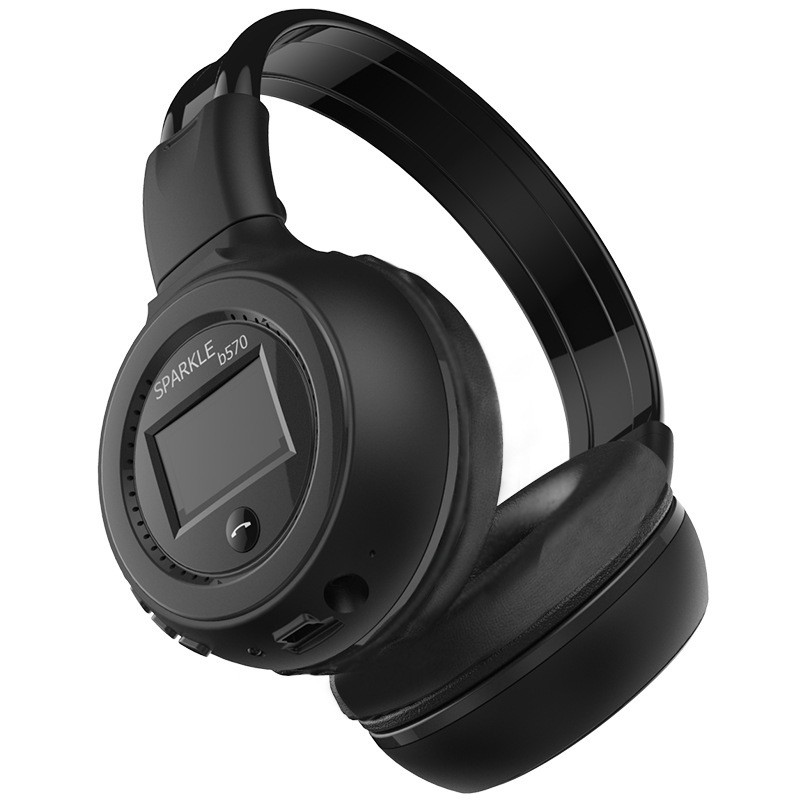Headphone: (95, 6, 714, 800)
